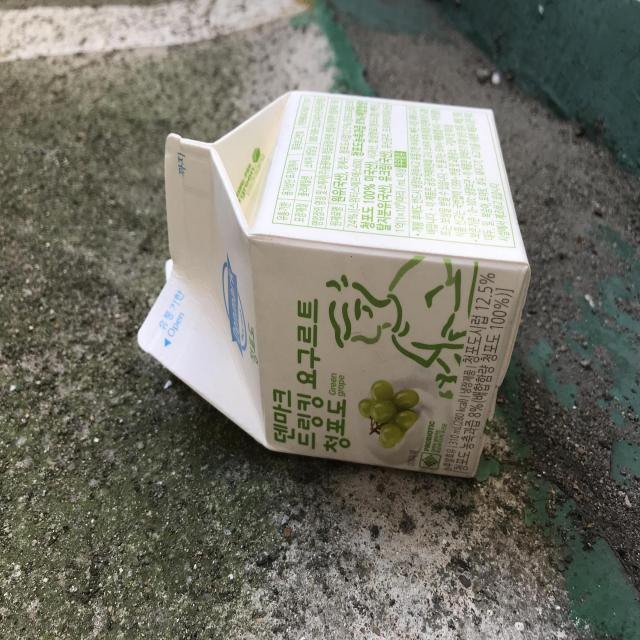paperpack: (137, 91, 531, 477)
